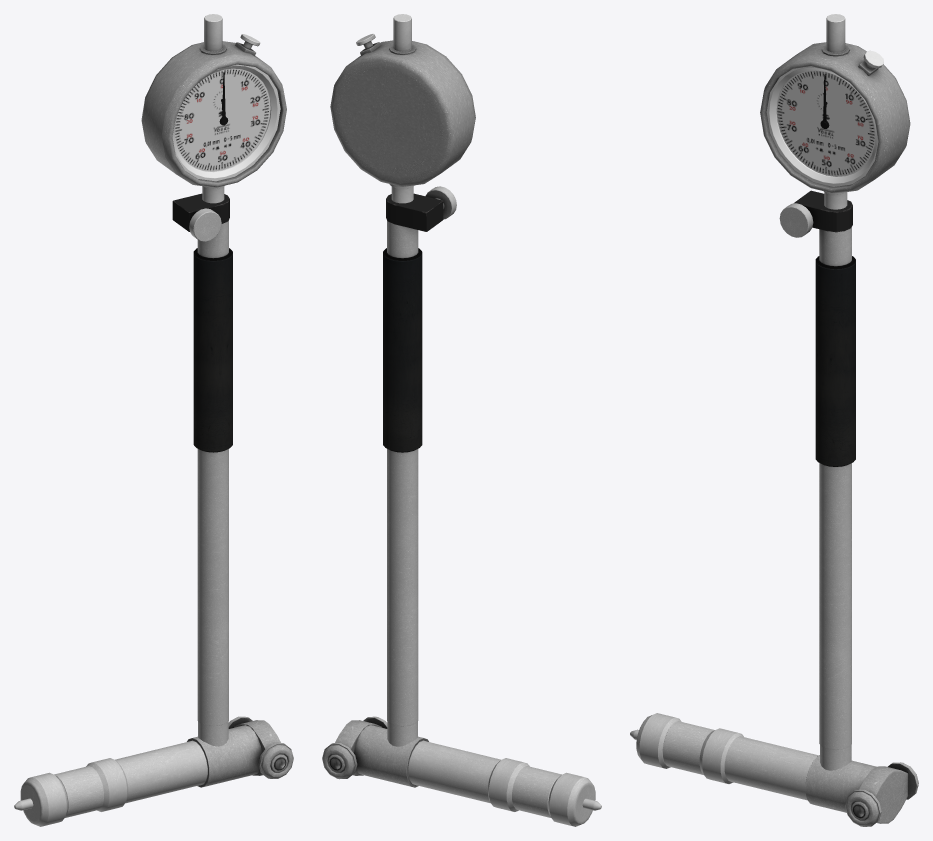
The model's file is nutromer2.FBX.
3 views of the same model, side by side, from view 1: azimuth 30°, elevation 25°; view 2: azimuth 150°, elevation 25°; view 3: azimuth 330°, elevation 25° (orthographic). The views are drawn at different scales.
Visible parts, largest first — view 1: Cylinder05, Group001, Cylinder04, Cylinder06; view 2: Cylinder05, Cylinder04, Group001, Cylinder06; view 3: Cylinder05, Group001, Cylinder04, Cylinder06.
Boxes of the visible parts, x1,y1,x2,y2 form: Cylinder05: [172, 193, 232, 746]; Group001: [20, 64, 280, 826]; Cylinder04: [141, 14, 286, 203]; Cylinder06: [187, 716, 293, 787]; Cylinder05: [383, 186, 456, 746]; Cylinder04: [330, 14, 475, 203]; Group001: [408, 740, 595, 826]; Cylinder06: [322, 716, 428, 787]; Cylinder05: [779, 190, 855, 770]; Group001: [636, 66, 878, 800]; Cylinder04: [760, 14, 910, 209]; Cylinder06: [805, 755, 918, 826].
Bounding box in the file's own units: 8.28 × 23.2 × 2.47.
